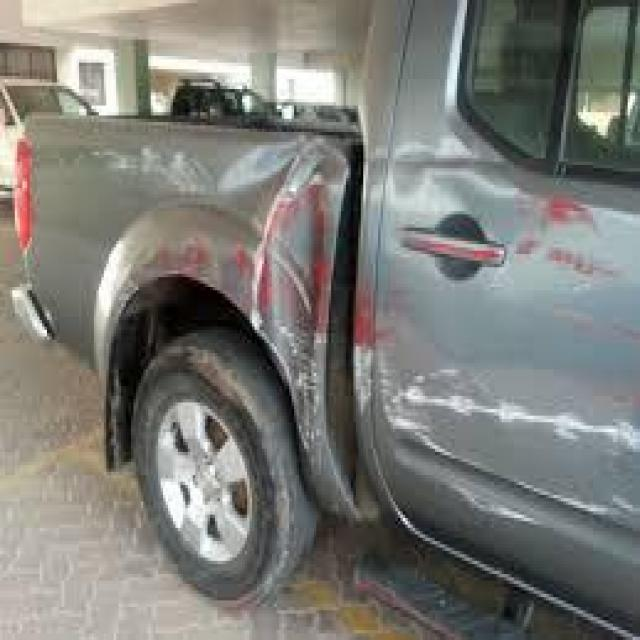damaged: (150, 125, 638, 528)
